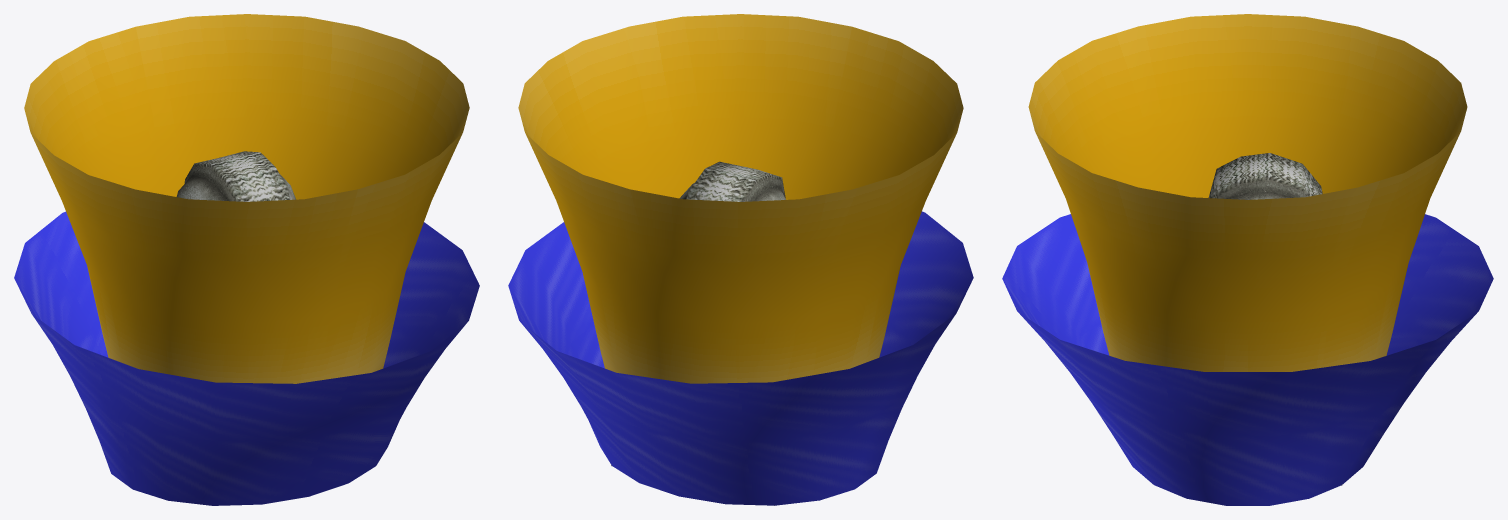
File: Basalt Idol.fbx
3 views of the same model, side by side, from view 1: azimuth 30°, elevation 25°; view 2: azimuth 150°, elevation 25°; view 3: azimuth 270°, elevation 25° (orthographic).
Parts seen in each view (by area): view 1: Effect 1, Effect 2, Body; view 2: Effect 1, Effect 2, Body; view 3: Effect 1, Effect 2, Body.
Boxes of the visible parts, bbox=[...] form: Effect 1: bbox=[24, 14, 469, 383]; Effect 2: bbox=[14, 211, 479, 505]; Body: bbox=[176, 151, 295, 201]; Effect 1: bbox=[518, 14, 963, 383]; Effect 2: bbox=[508, 211, 973, 505]; Body: bbox=[611, 161, 785, 505]; Effect 1: bbox=[1028, 14, 1467, 371]; Effect 2: bbox=[1002, 214, 1493, 505]; Body: bbox=[1208, 153, 1342, 485].
Bounding box in the file's own units: 1616 × 1369 × 1795.
